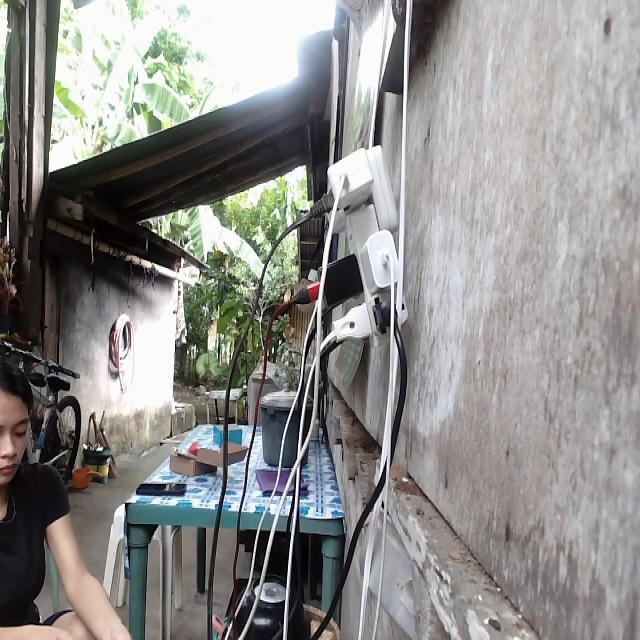-: (295, 151, 409, 345)
